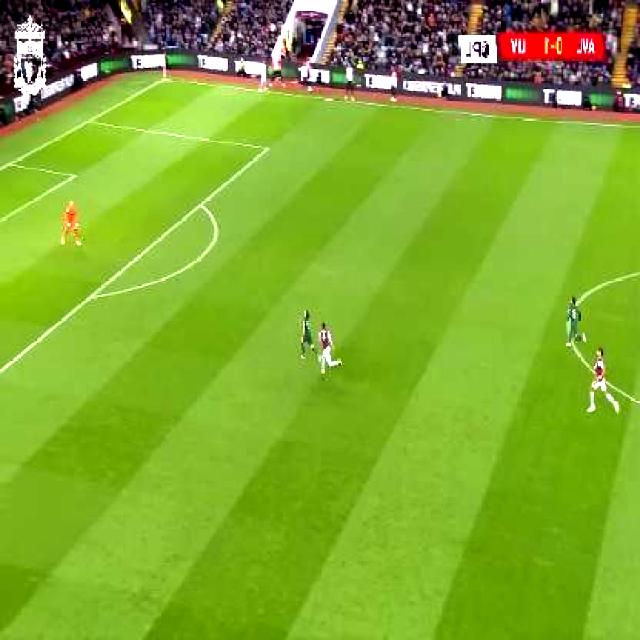bigarea_top_inner: (262, 138, 276, 157)
bigarea_top_outter: (83, 112, 97, 128)
bottom_arc_area_intersection: (85, 284, 100, 304)
corner: (158, 72, 176, 85)
smallarea_top_inner: (69, 166, 83, 183)
smallarea_top_outter: (3, 154, 19, 172)
top_arc_area_intersection: (196, 194, 210, 212)
